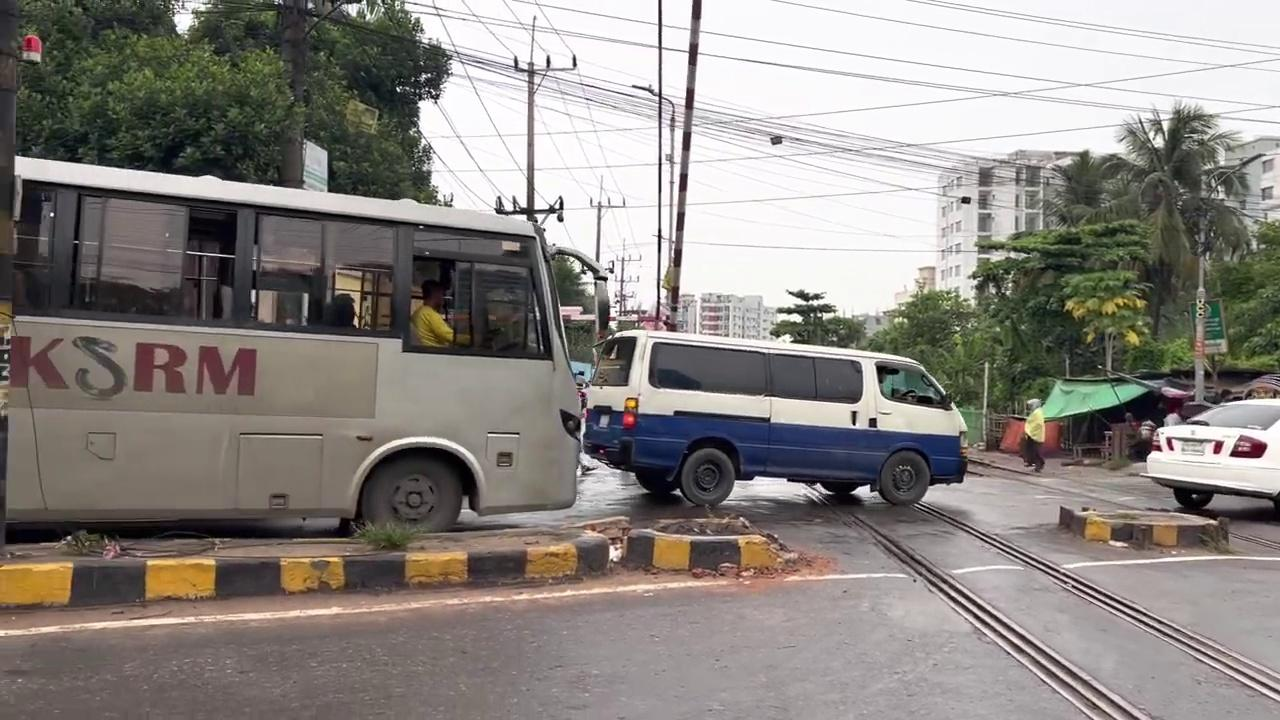Bollard: (584, 302, 982, 504), (1140, 397, 1279, 515)
Car: (1, 514, 796, 611)
Fence: (409, 278, 472, 348), (1019, 397, 1045, 472)
Garbage: (666, 1, 702, 329), (275, 0, 309, 188), (652, 0, 665, 328), (1191, 199, 1211, 402)
Motorcycle: (801, 480, 1278, 718)
Rickshaw: (2, 152, 611, 539)
